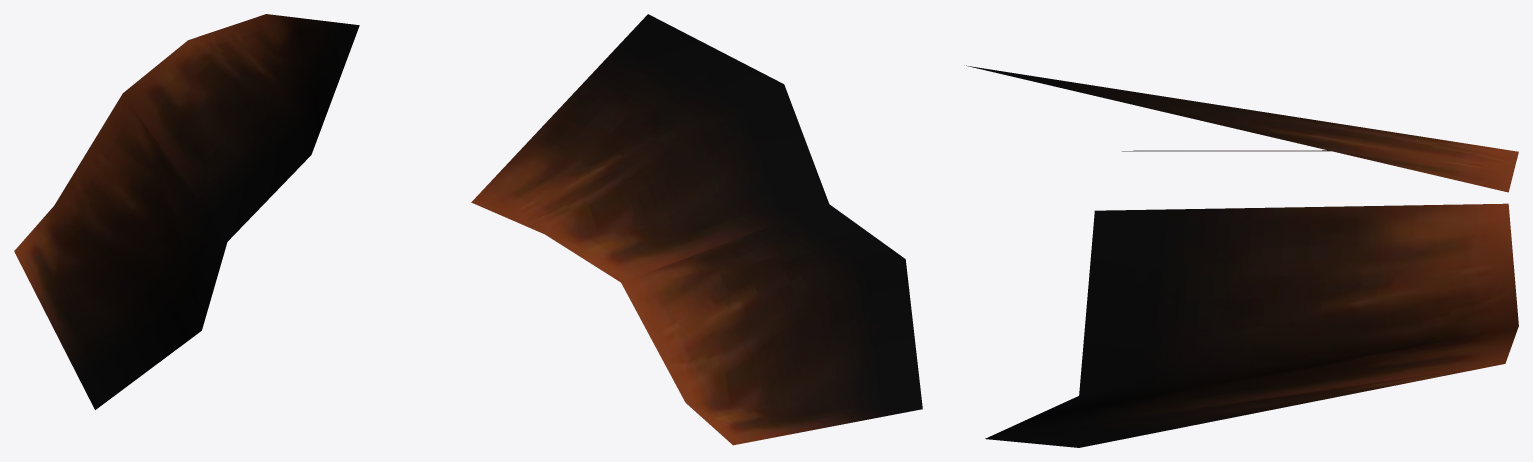
The model's file is EarthQuake02.glb.
The picture shows the model from 3 angles, left to right: view 1: azimuth 30°, elevation 25°; view 2: azimuth 150°, elevation 25°; view 3: azimuth 270°, elevation 25°; orthographic projection. The views are drawn at different scales.
Visible parts, largest first — view 1: model_EarthQuake02; view 2: model_EarthQuake02; view 3: model_EarthQuake02.
Boxes of the visible parts, <box> form: model_EarthQuake02: <box>14,14,359,409</box>; model_EarthQuake02: <box>471,14,922,445</box>; model_EarthQuake02: <box>966,65,1518,447</box>.
Bounding box in the file's own units: 0.8296 × 0.8469 × 0.75.
1 material, 1 textured.
